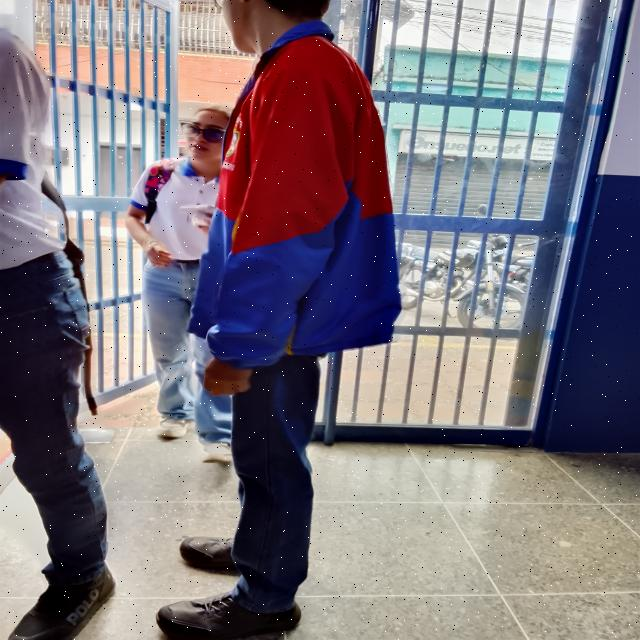chaqueta_unefa: (182, 19, 404, 369)
uniforme_superior: (130, 156, 251, 260)
